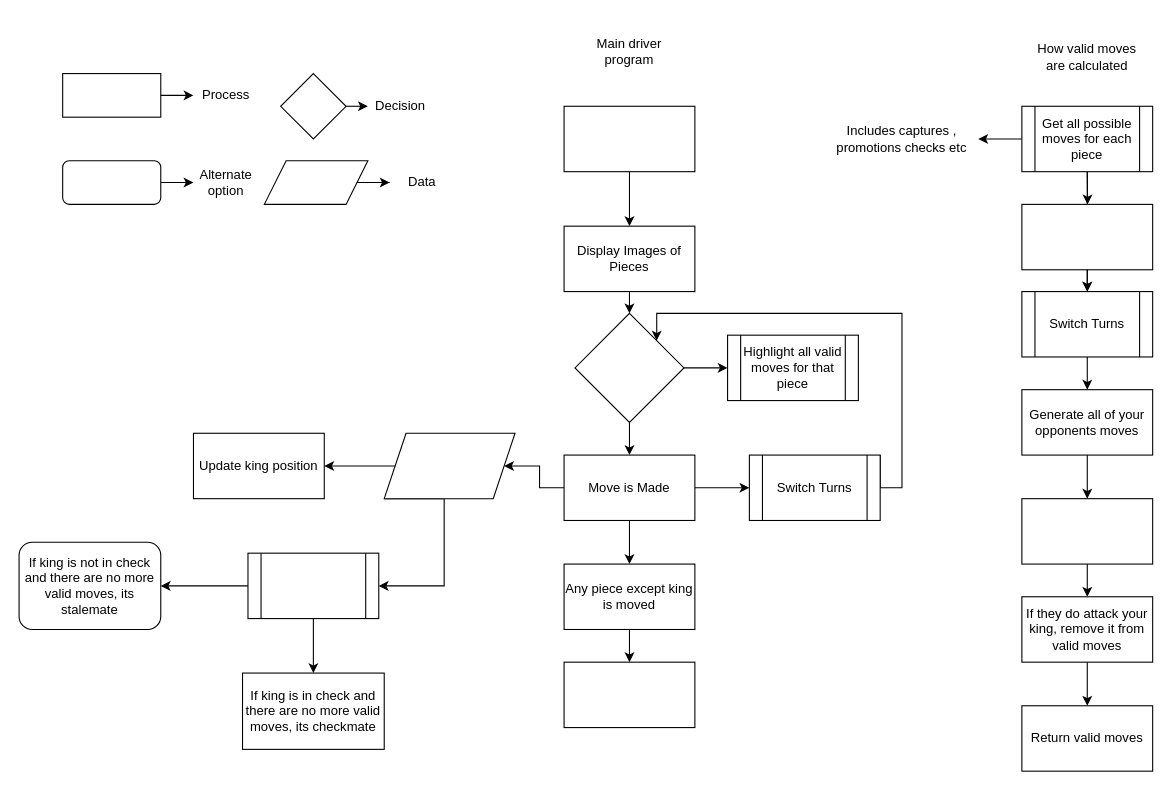
Image size: 1172x790. Some labels were removed from this diagram. The centre of each missing label's shape, as x and y in pixels:
Check if king is in check: pixel 313 585
Display Board: pixel 629 138
For each of these moves, see if they attack your king: pixel 1087 531
King is moved: pixel 449 465
Make a Move: pixel 1087 236
Update end row and column of the piece moved: pixel 629 694
User selects a piece: pixel 629 367
